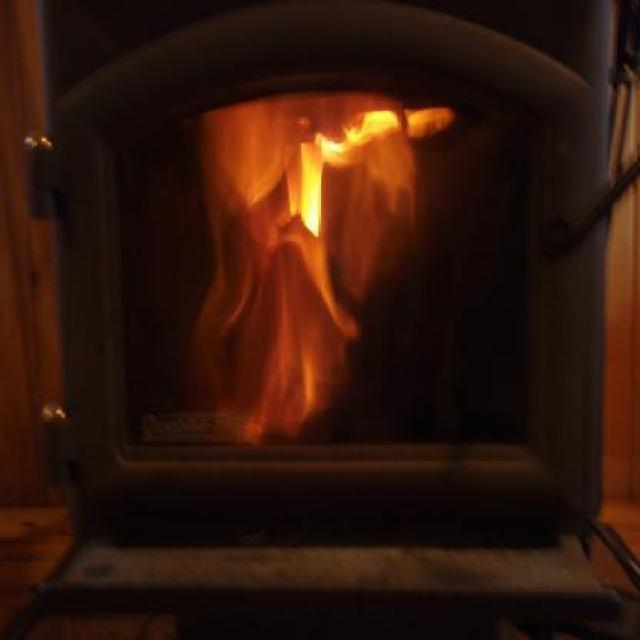Fire: (203, 102, 454, 440)
